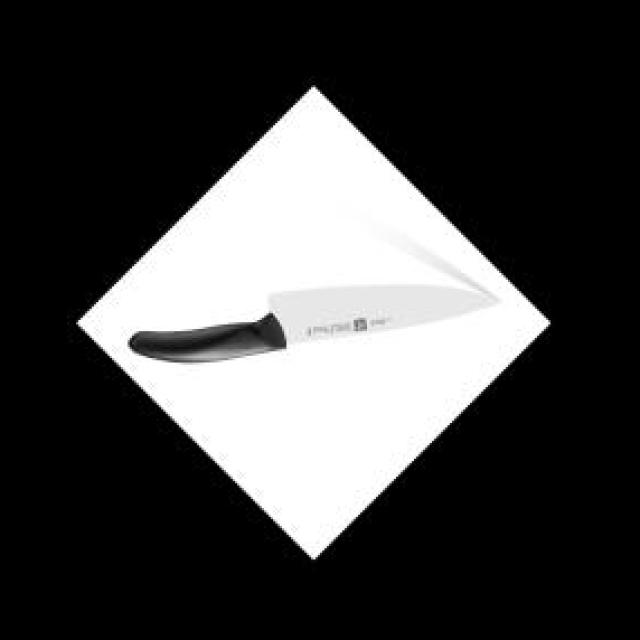knife: (125, 284, 502, 368)
